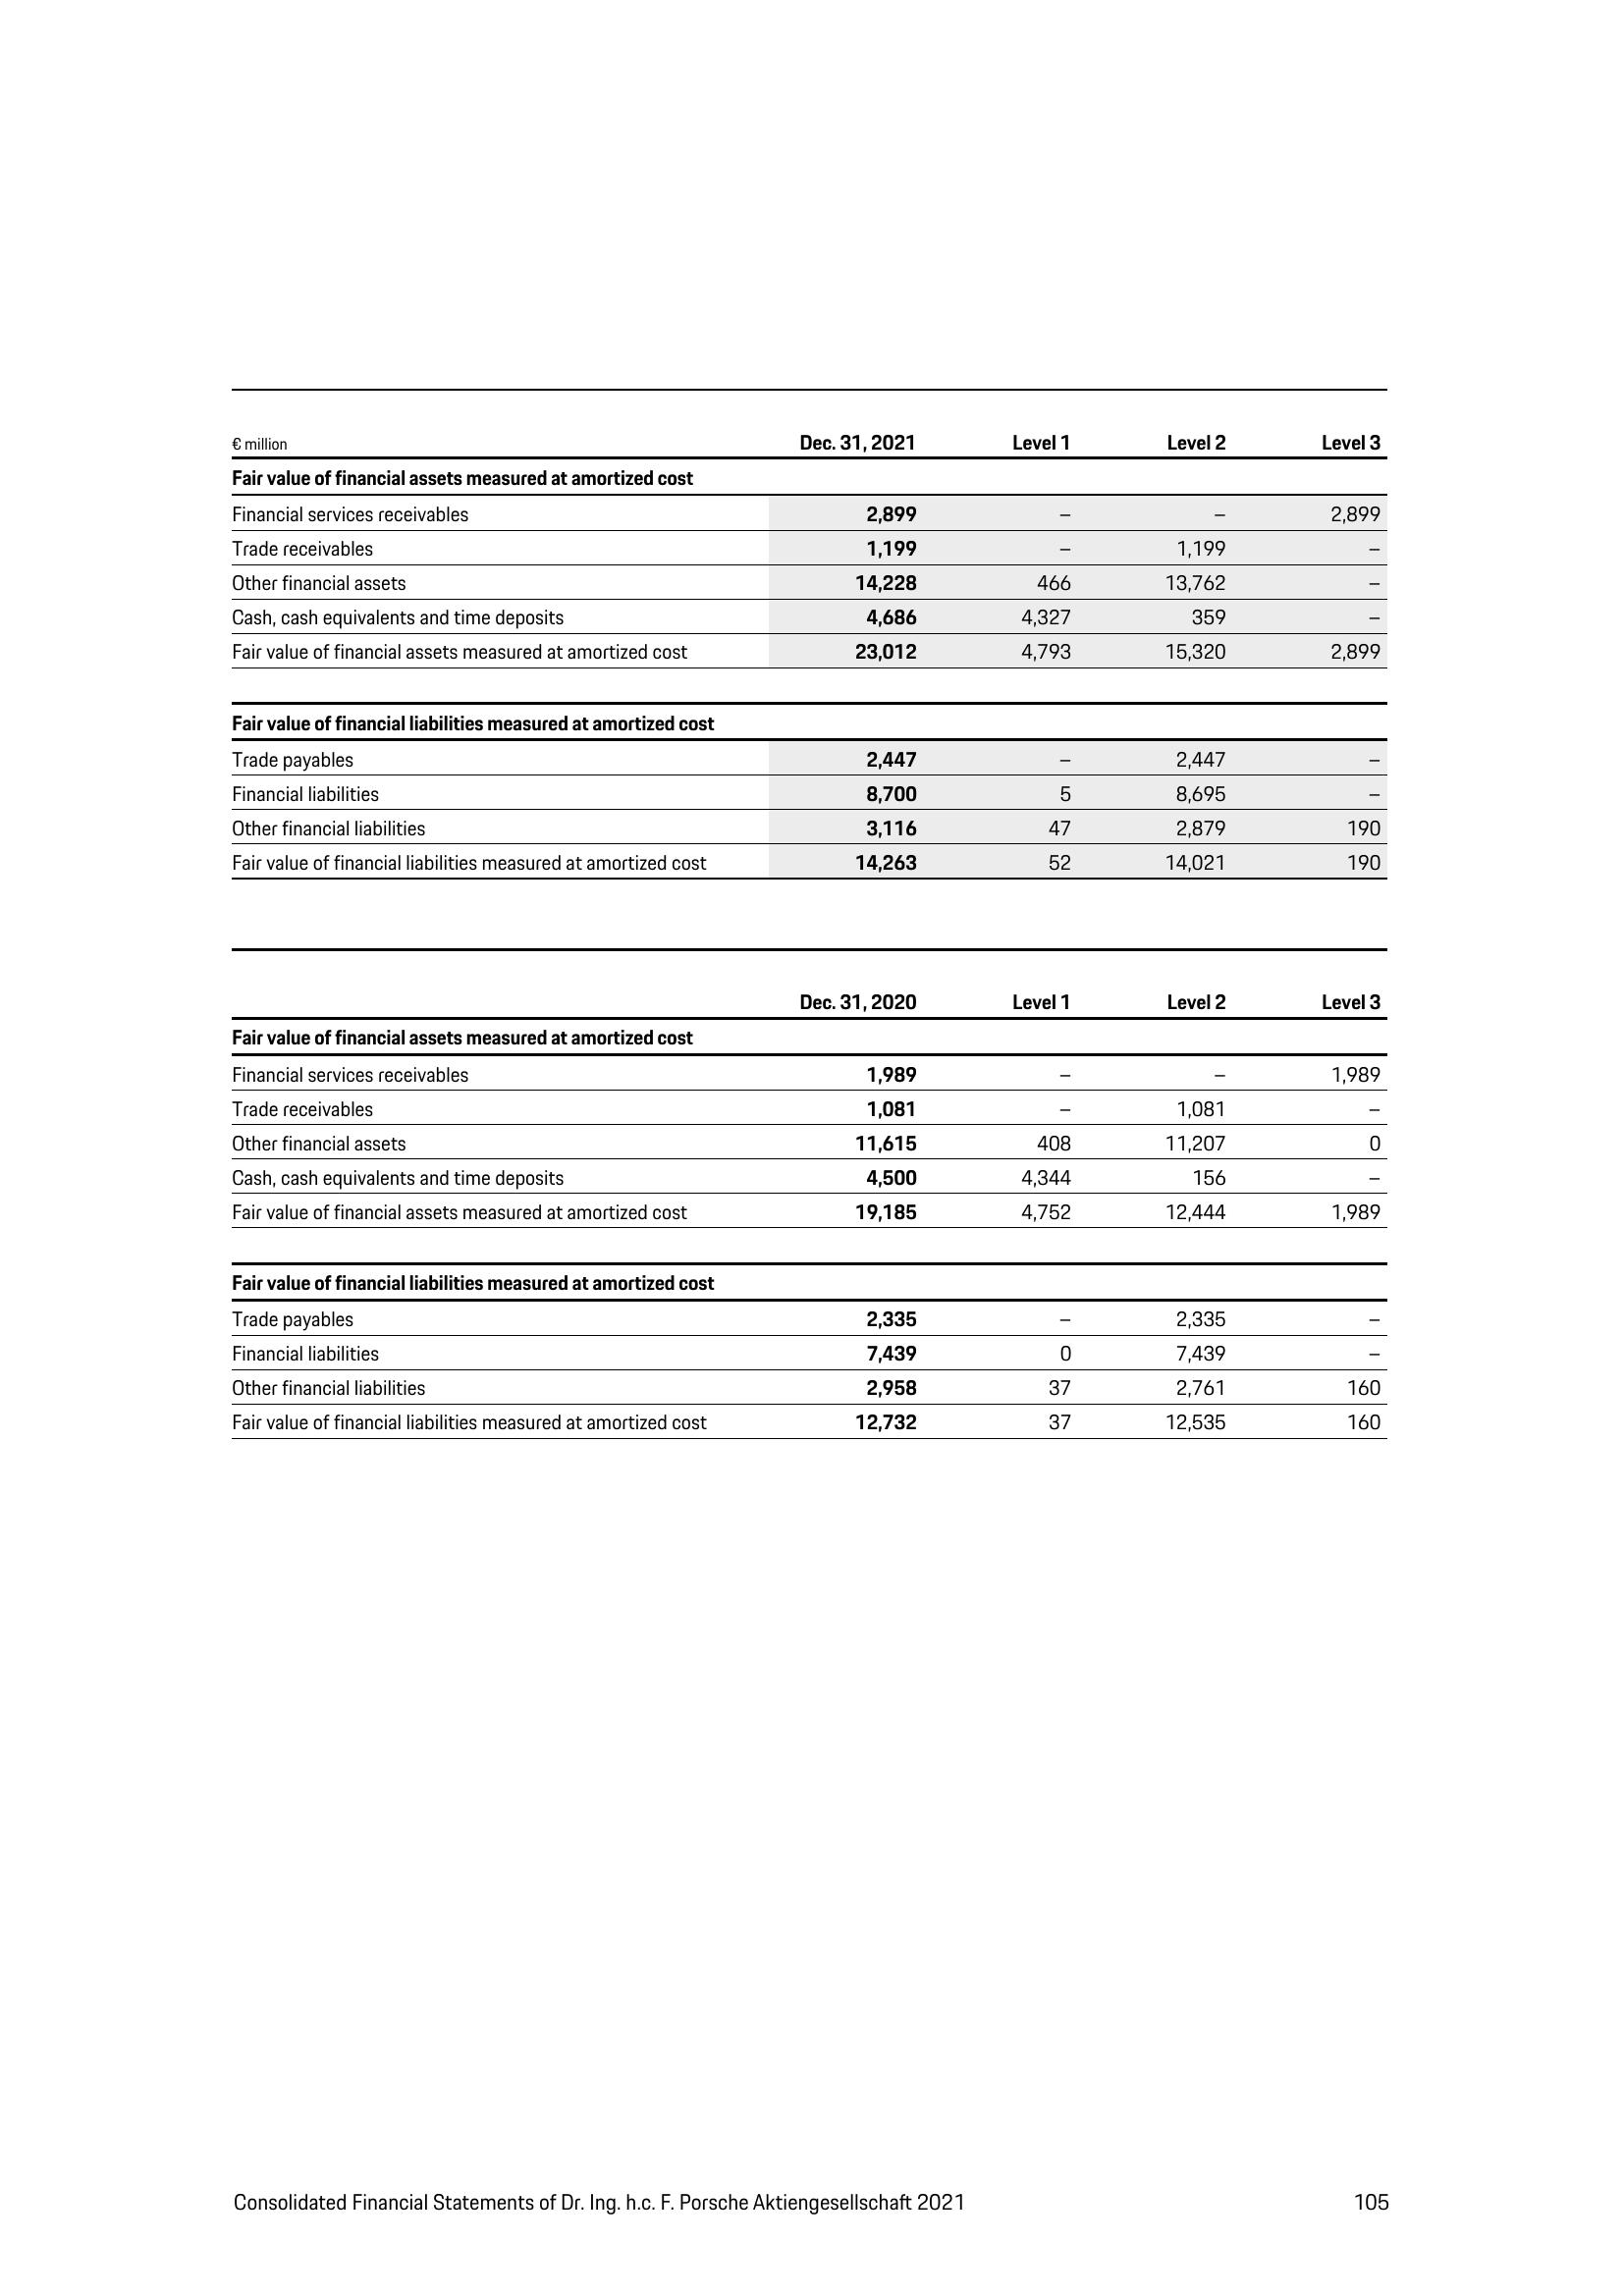Footer: (0, 2143, 1624, 2296)
Header: (0, 0, 1624, 214)
Table: (163, 940, 1420, 1549), (172, 385, 1438, 891)
